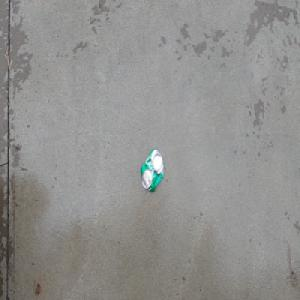SodaCan: (139, 147, 165, 194)
